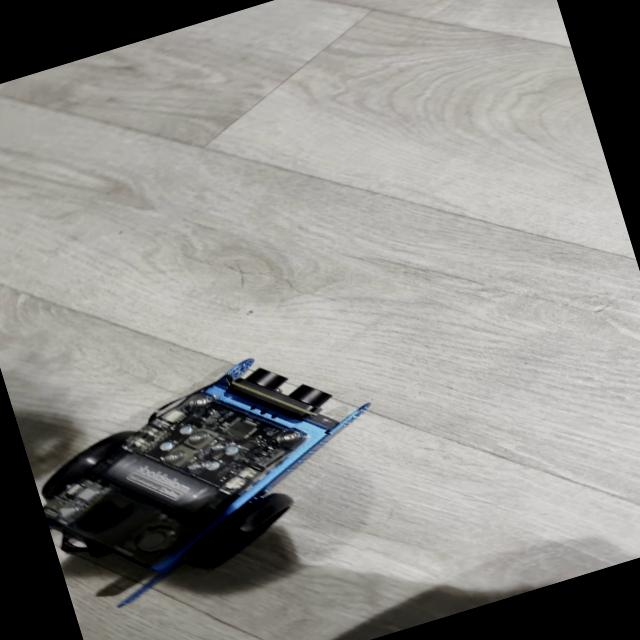mbot-detection: (17, 318, 422, 626)
